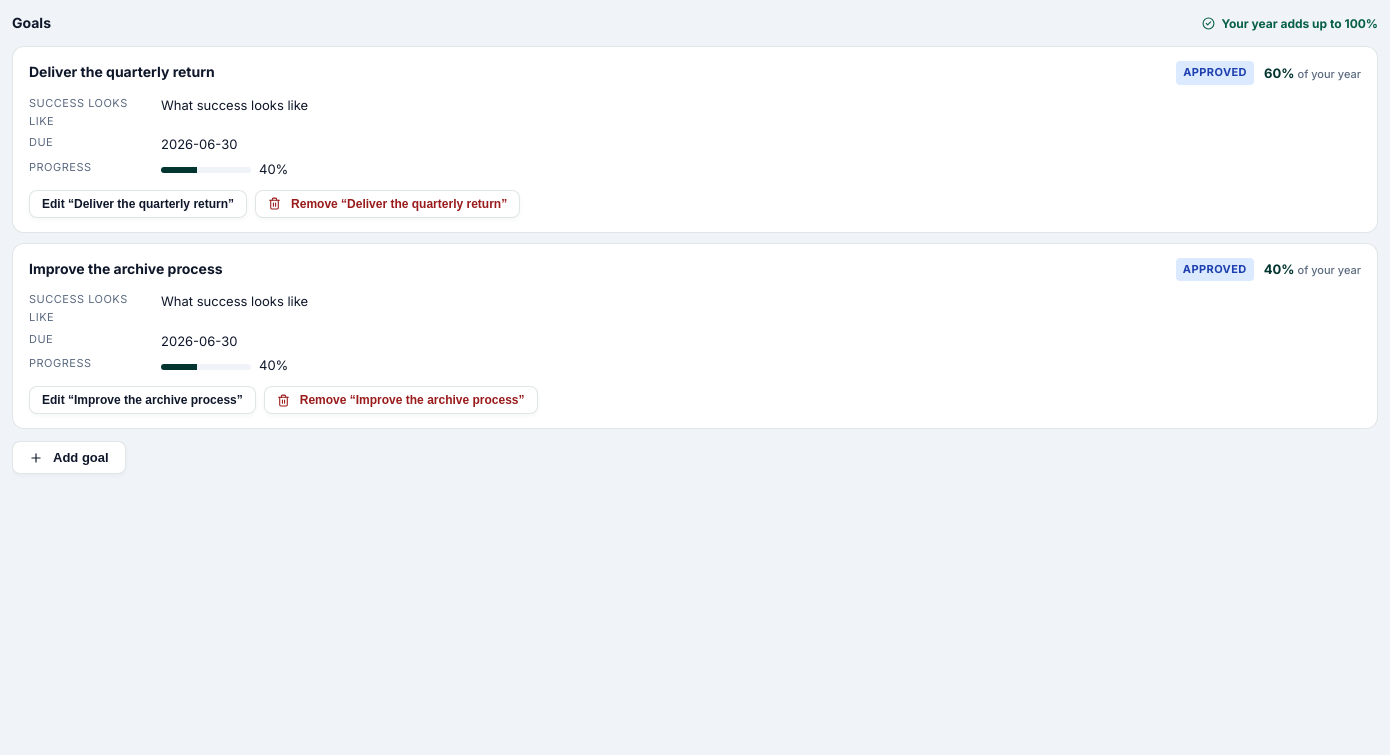
Test case: the fields the specification names › keeps achievement separate from target when editing
Step 1. Click the button "Edit “Deliver the quarterly return”" → (138,204), box [29,190,247,218]
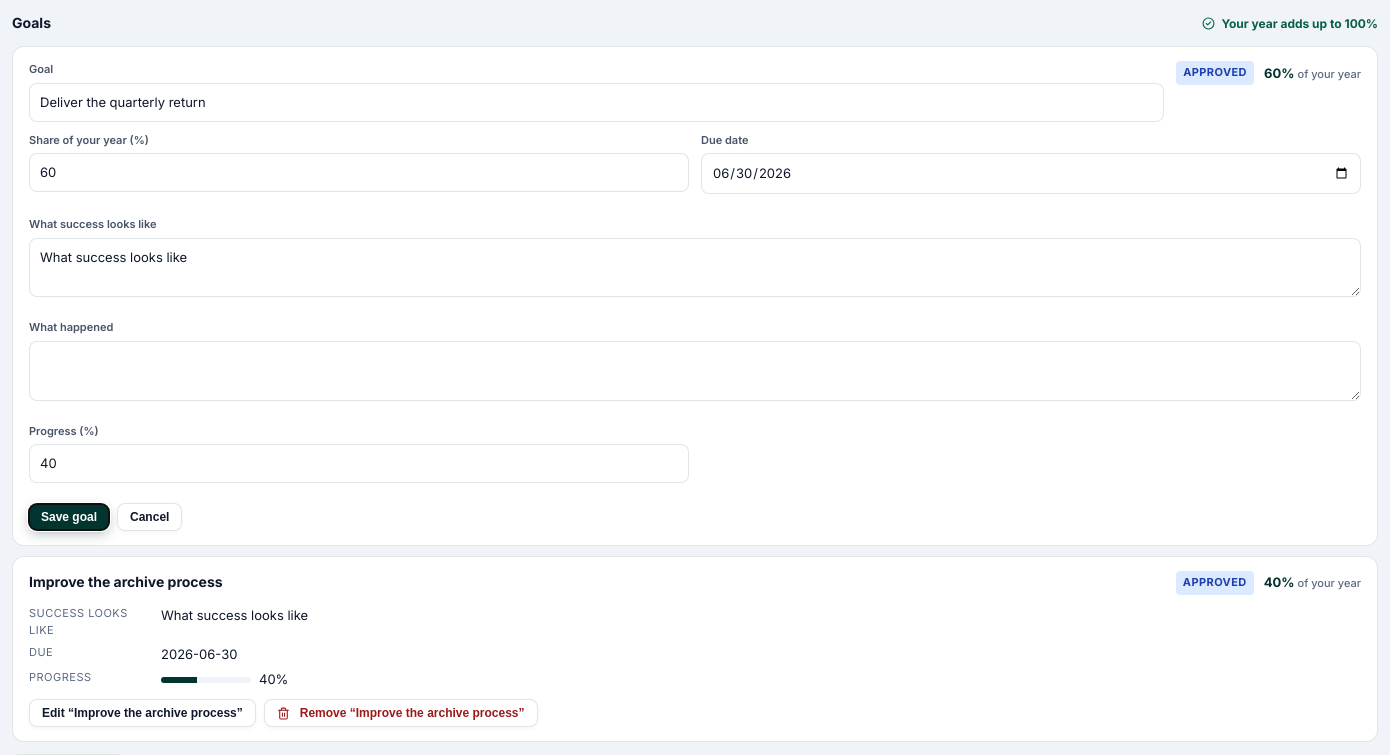
Expected: the text box labelled "What success looks like" is shown, [29,238,1361,297]
Expected: the text box labelled "What happened" is shown, [29,341,1361,401]
